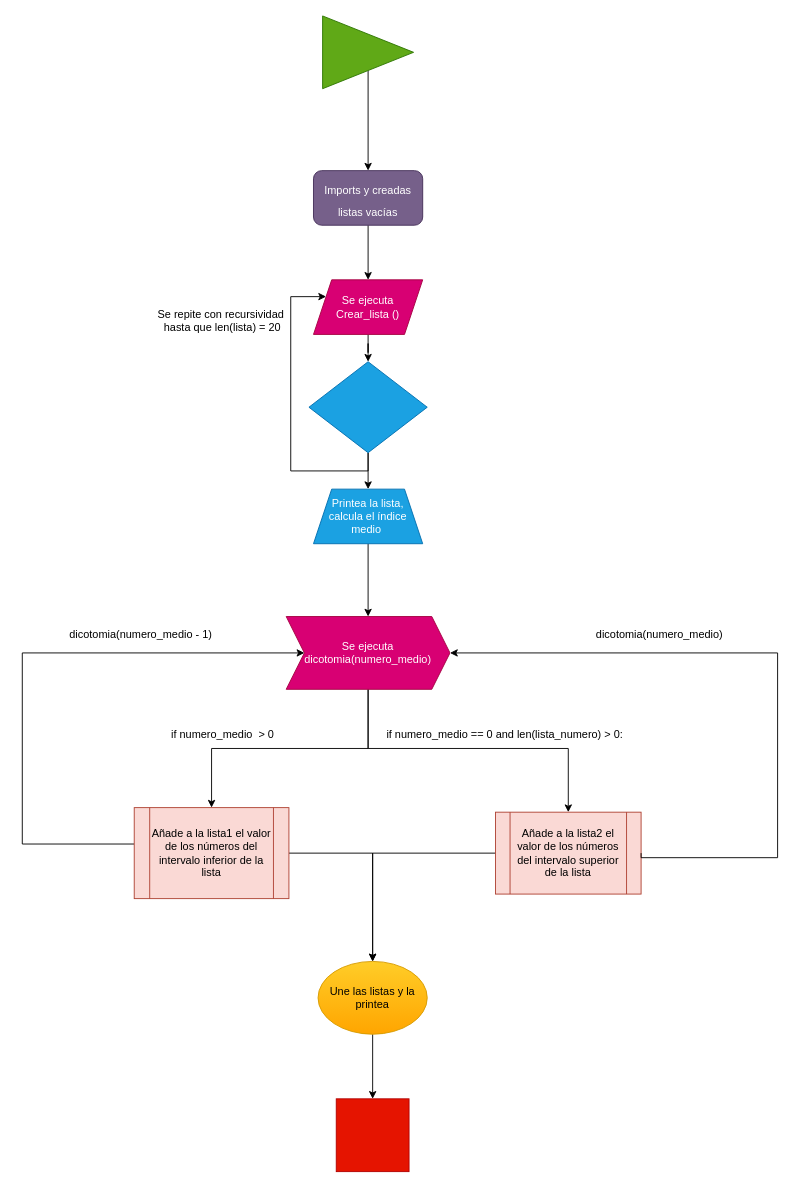
Image size: 801x1188. Some labels were removed from this diagram. The centre of each missing label's shape, as x and y in pixels:
Genera un número random y lo añade a la lista: (x=367, y=407)
Start: (x=368, y=52)
STOP: (x=372, y=1135)
